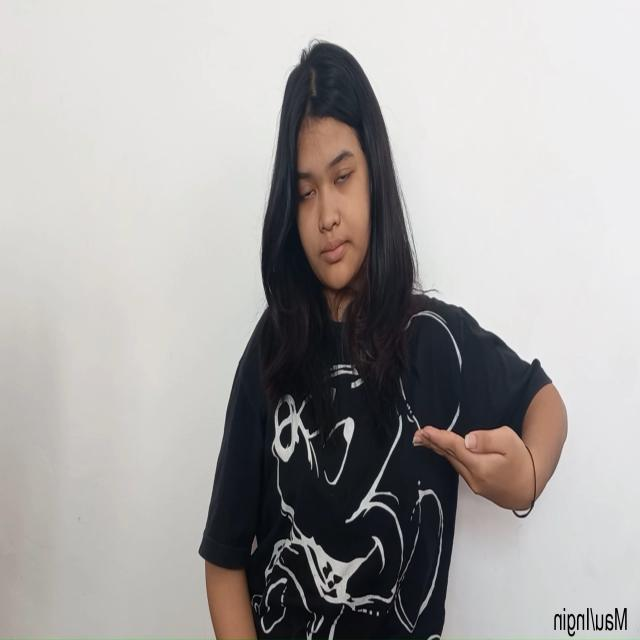Mau-Ingin -BISINDO-: (410, 422, 539, 514)
